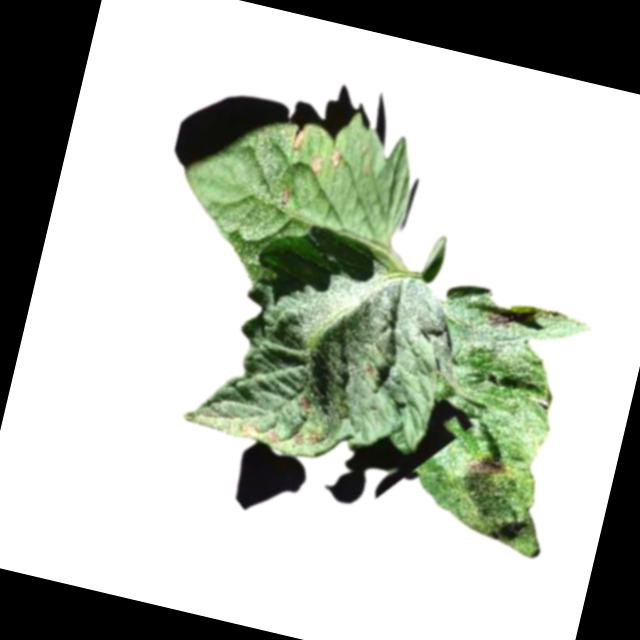Early_blight: (463, 454, 511, 485), (479, 307, 513, 334), (288, 120, 310, 153), (276, 182, 294, 207), (328, 148, 346, 169), (294, 393, 313, 412), (310, 153, 326, 175), (304, 430, 321, 449), (265, 427, 281, 445), (291, 430, 306, 448)
